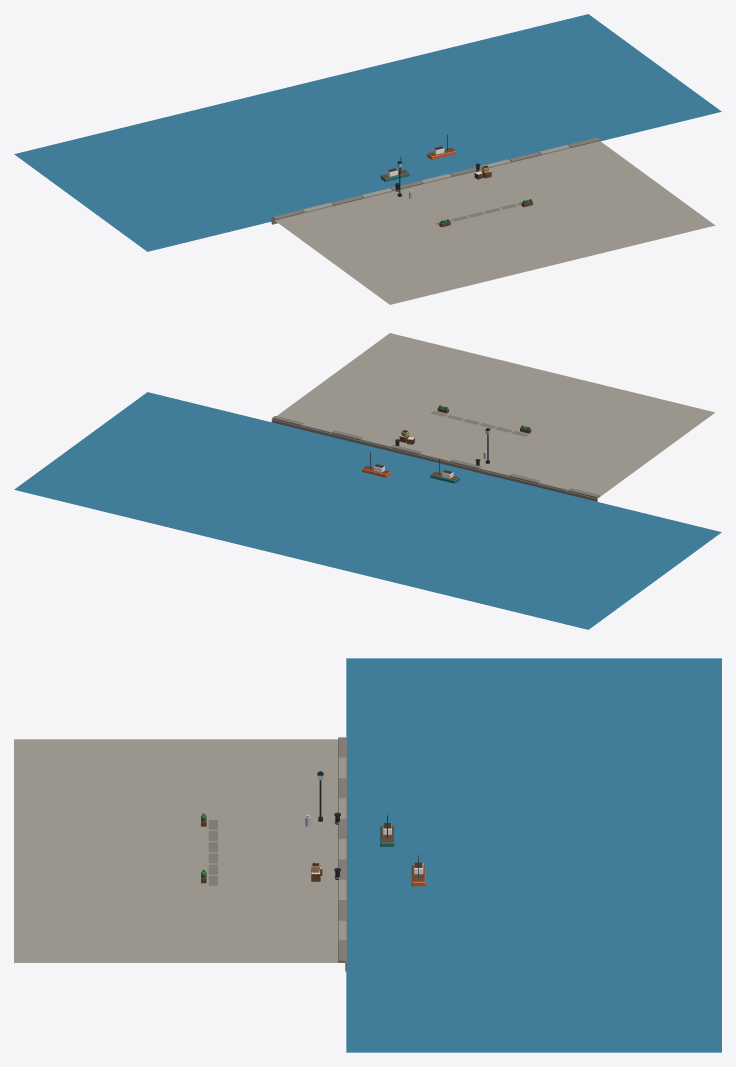
The model's file is shell_cart.fbx.
The picture shows the model from 3 angles, top to bottom: view 1: azimuth 30°, elevation 25°; view 2: azimuth 150°, elevation 25°; view 3: azimuth 270°, elevation 25°; orthographic projection. The views are drawn at different scales.
Parts seen in each view (by area): view 1: shell_cart; view 2: shell_cart; view 3: shell_cart.
Boxes of the visible parts, x1,y1,x2,y2 form: shell_cart: (14,14,721,304); shell_cart: (14,333,721,629); shell_cart: (14,658,721,1052).
Bounding box in the file's own units: 60 × 4.07 × 45.5.
